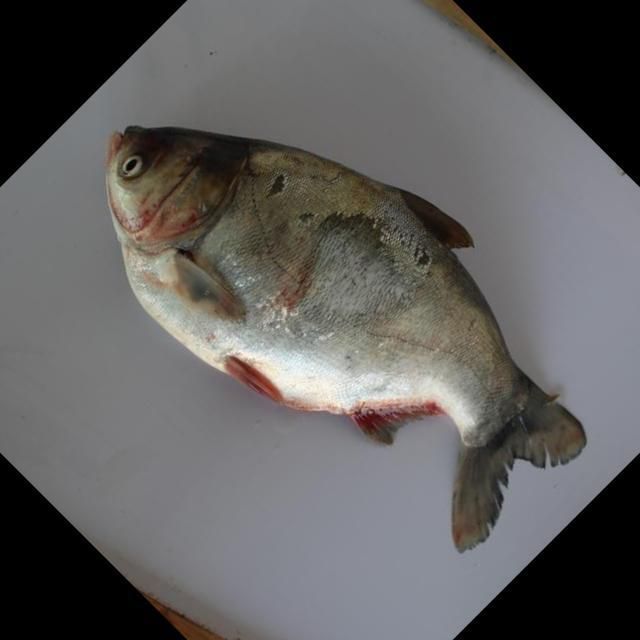SilverCarp: (100, 117, 590, 556)
